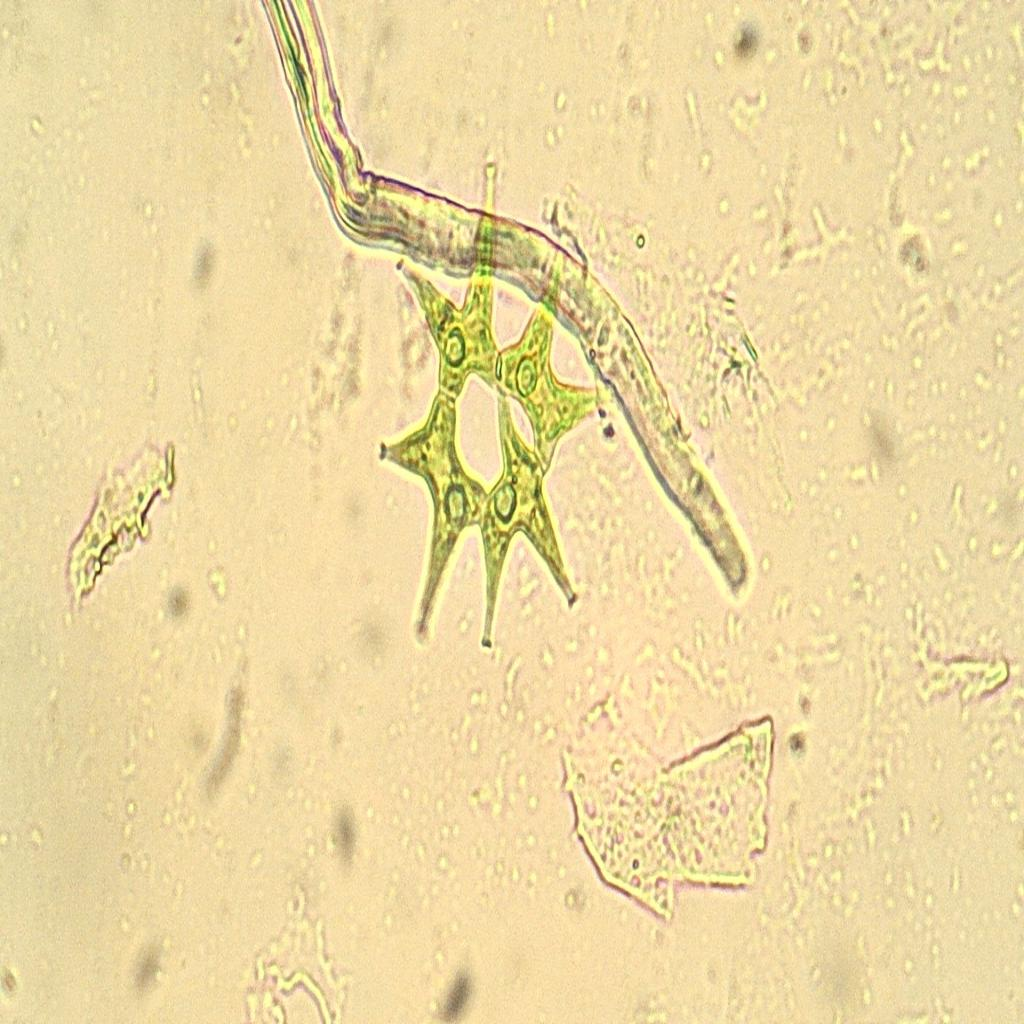Pediastrum_CF: (356, 144, 636, 689)
